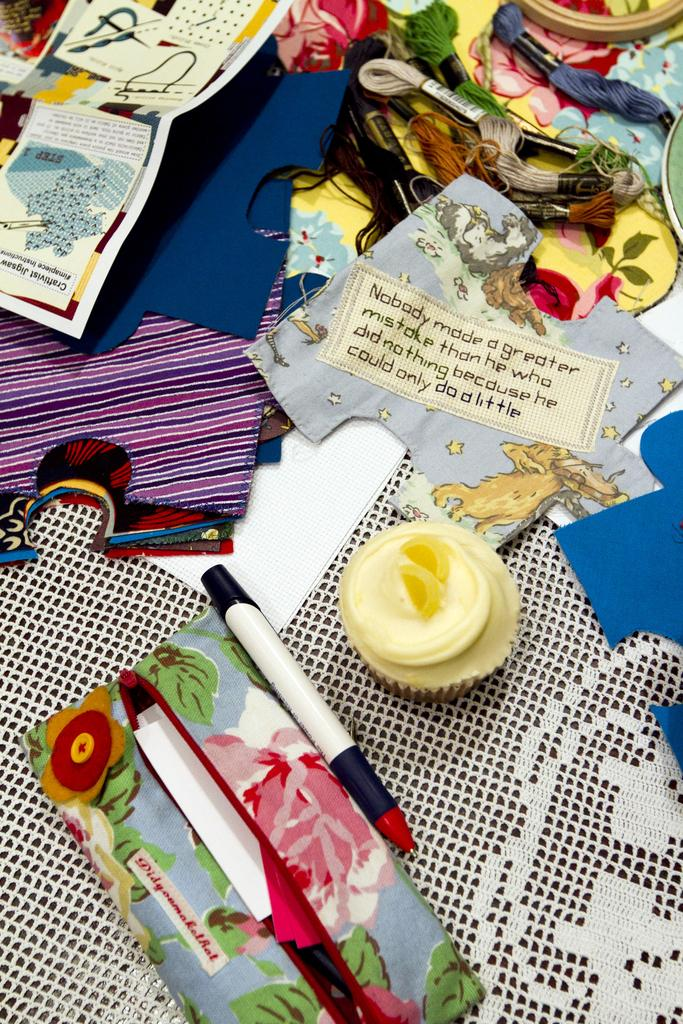pen: (193, 562, 420, 861)
